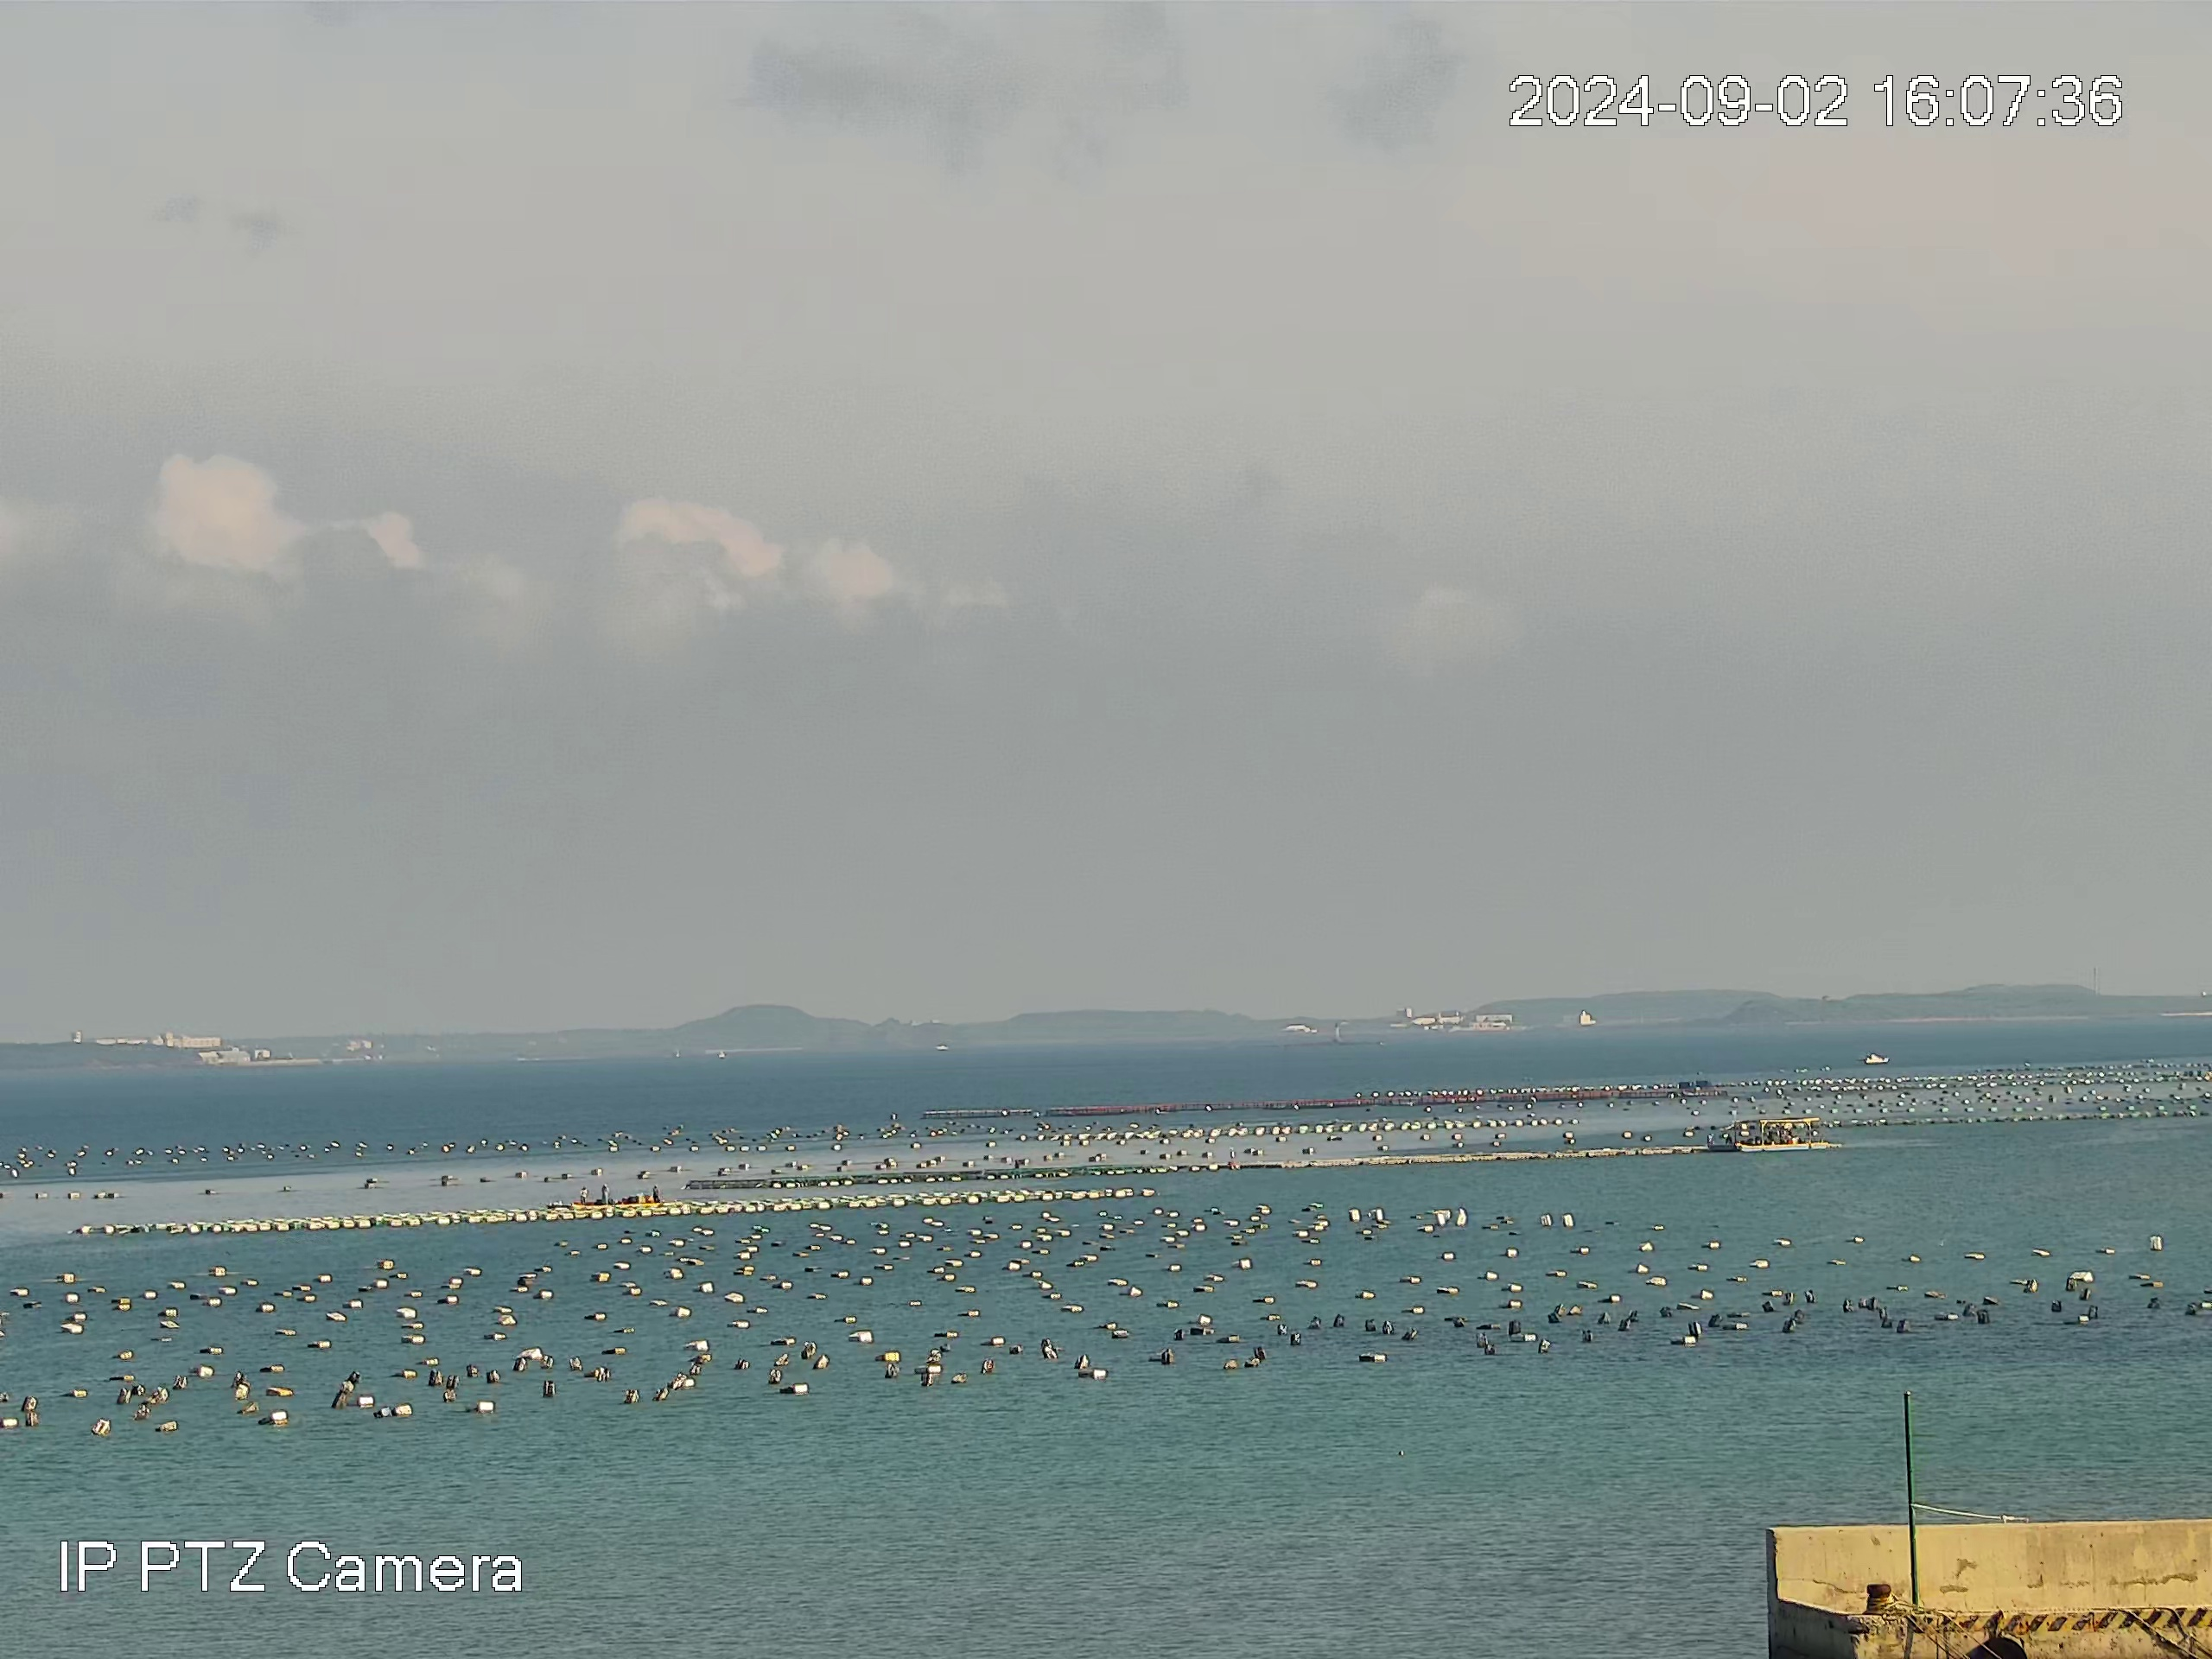boat: (1732, 1116, 1830, 1154), (569, 1182, 663, 1210), (1862, 1052, 1891, 1065)
